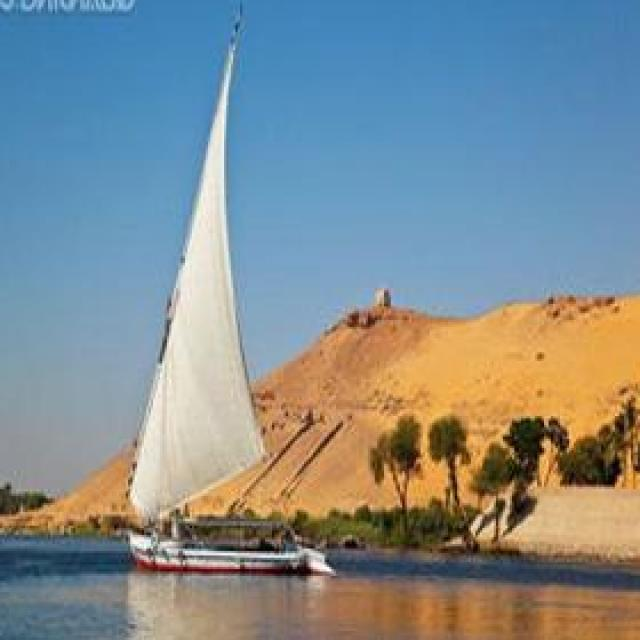sailboat: (119, 0, 330, 594)
